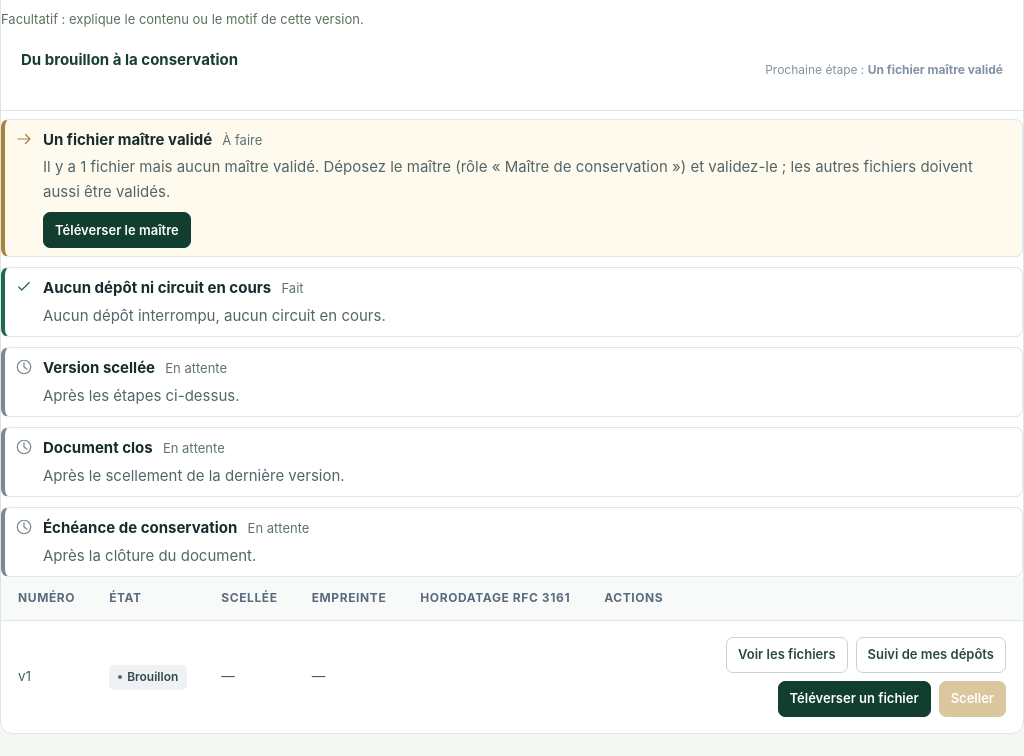
tant que le serveur dit qu’il manque un maître, « Sceller » est grisé et le dépôt propose d’abord le rôle « Maître de conservation »
This screenshot has width=1024, height=756.
(page scrolled)
Expected: the button "Sceller" is disabled, x1=939 y1=681 x2=1006 y2=717
Click the button "Téléverser un fichier": (854, 699) x1=778 y1=681 x2=931 y2=717
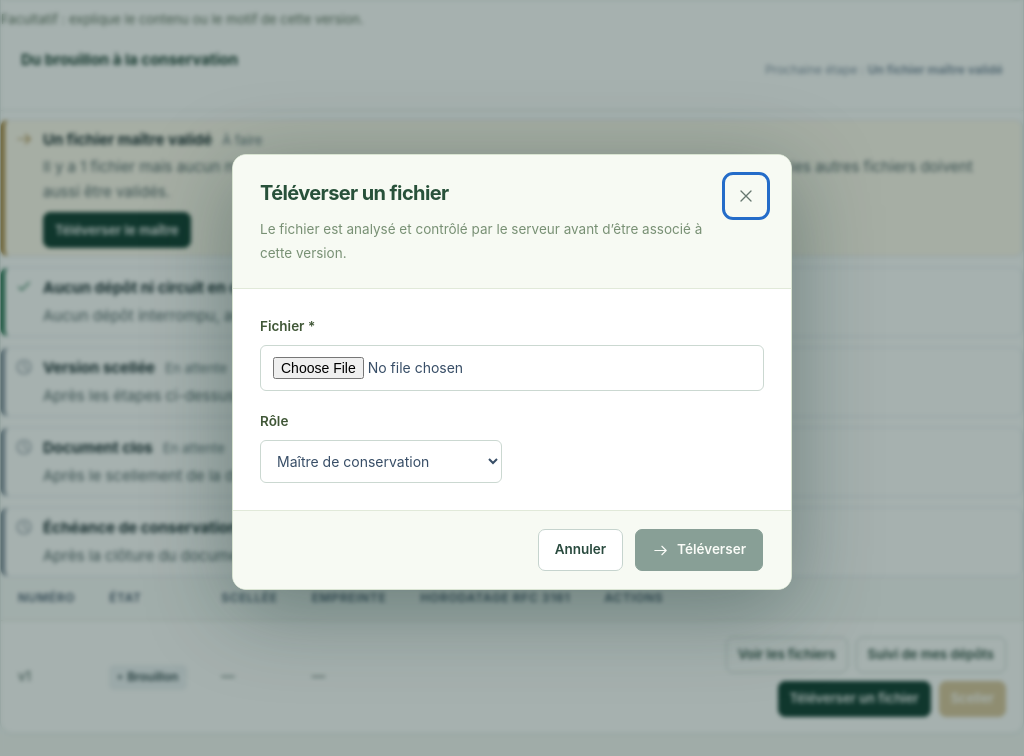
Result: the dropdown labelled "Rôle" shows "Maître de conservation" at x1=260 y1=440 x2=502 y2=483
